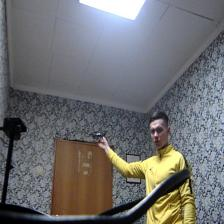drone: (86, 127, 111, 140)
